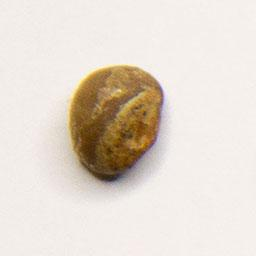defect: (66, 62, 167, 180)
